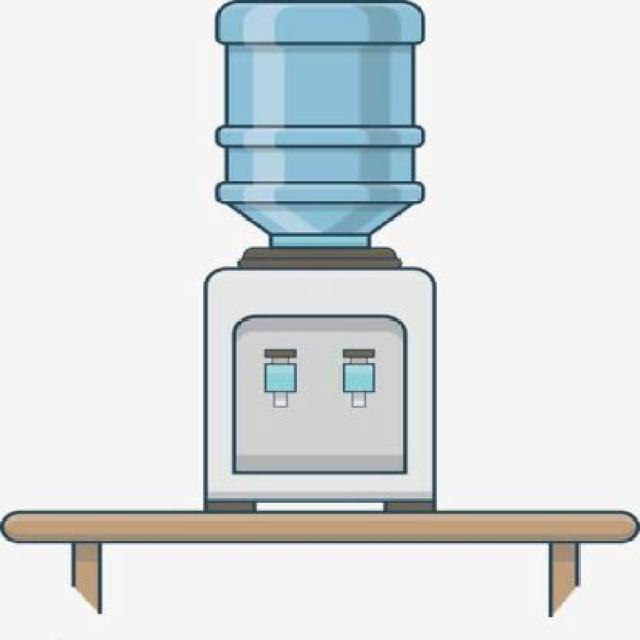coolerbottle: (200, 0, 442, 246)
